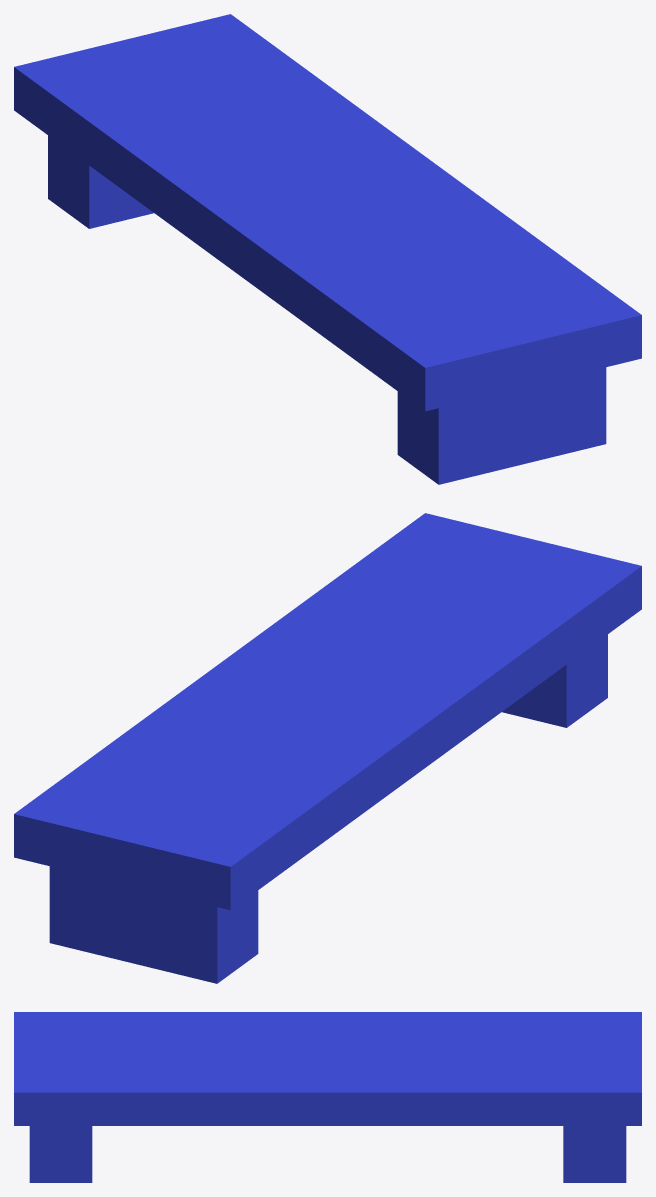
The model's file is bench_m1.fbx.
3 views of the same model, one above another, from view 1: azimuth 30°, elevation 25°; view 2: azimuth 150°, elevation 25°; view 3: azimuth 270°, elevation 25° (orthographic). The views are drawn at different scales.
Parts seen in each view (by area): view 1: Bench; view 2: Bench; view 3: Bench.
Part boxes in pixels (<box>): Bench: <box>14,14,641,484</box>; Bench: <box>14,513,641,983</box>; Bench: <box>14,1012,641,1182</box>.
Bounding box in the file's own units: 1.22 × 0.6993 × 4.
